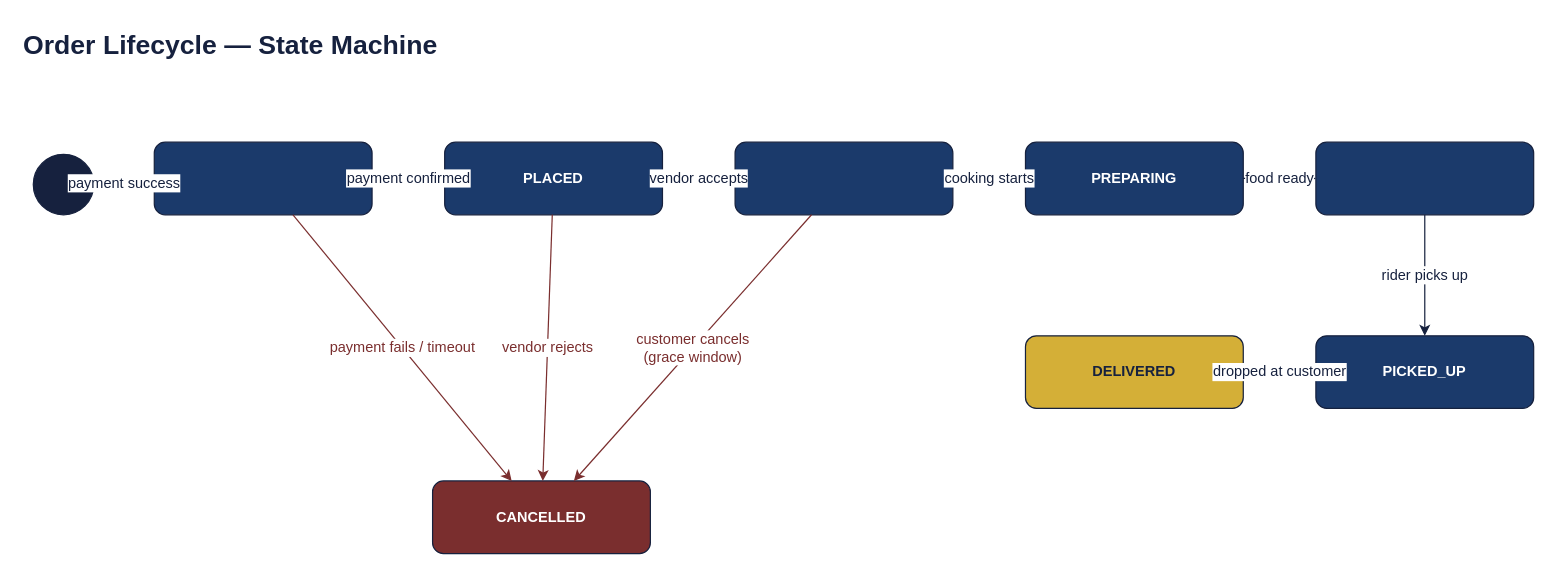
This 1555x575 diagram has some shape labels left out. Each missing label, with the box of its shape:
CONFIRMED (by vendor): (734, 141, 953, 215)
PENDING_PAYMENT: (153, 141, 372, 215)
READY_FOR_PICKUP: (1315, 141, 1534, 215)
